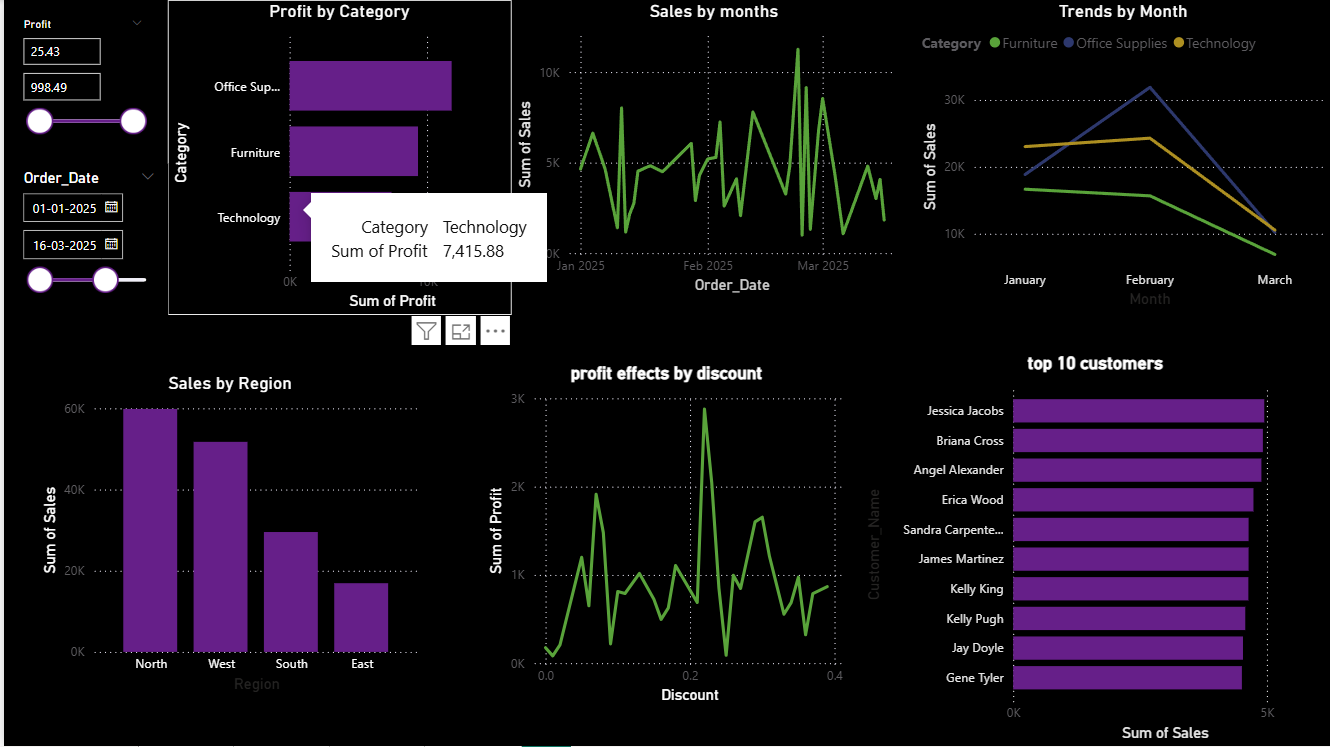

The dashboard page shown, as its layout file describes it:
{"tool":"powerbi","page":{"name":"Page 4","canvas":[1280,720],"ordinal":3},"visuals":[{"type":"lineChart","title":"Sales by months","fields":{"Y":["Sum(clean_sales_dataset.Sales)"],"Category":["clean_sales_dataset.Order_Date"]},"box":[489.8,0,390.9,288.3],"z":0},{"type":"lineChart","title":"Trends by Month","fields":{"Category":["clean_sales_dataset.Order_Date.Variation.Date Hierarchy.Month","clean_sales_dataset.Order_Date.Variation.Date Hierarchy.Day"],"Y":["Sum(clean_sales_dataset.Sales)"],"Series":["clean_sales_dataset.Category"]},"box":[880.7,0,399.3,301.6],"z":1000},{"type":"barChart","title":"top 10 customers","fields":{"Category":["clean_sales_dataset.Customer_Name"],"Y":["Sum(clean_sales_dataset.Sales)"]},"box":[826.4,340.2,453.6,380],"z":2000},{"type":"lineChart","title":"profit effects by discount","fields":{"Category":["clean_sales_dataset.Discount"],"Y":["Sum(clean_sales_dataset.Profit)"]},"box":[462.1,349.9,354.7,334.2],"z":3000},{"type":"columnChart","title":"Sales by Region","fields":{"Category":["clean_sales_dataset.Region"],"Y":["Sum(clean_sales_dataset.Sales)"]},"box":[31.4,359.5,374,313.7],"z":4000},{"type":"barChart","title":"Profit by Category","fields":{"Category":["clean_sales_dataset.Category"],"Y":["Sum(clean_sales_dataset.Profit)"]},"box":[158,0,331.8,304],"z":5000},{"type":"slicer","fields":{"Values":["clean_sales_dataset.Order_Date"]},"box":[6,158,152,182.2],"z":6000},{"type":"slicer","fields":{"Values":["clean_sales_dataset.Profit"]},"box":[6,12.1,139.9,132.7],"z":7000}]}

Visuals, with their boxes in screenshot pixels (x1, y1, x2, y2), scaled from the page's 1280x720 canvas onto the 1330x747 screenshot:
"Sales by months" lineChart: [509,0,915,299]
"Trends by Month" lineChart: [915,0,1329,313]
"top 10 customers" barChart: [859,353,1329,746]
"profit effects by discount" lineChart: [480,363,849,710]
"Sales by Region" columnChart: [33,373,421,698]
"Profit by Category" barChart: [164,0,509,315]
slicer - clean_sales_dataset.Order_Date: [6,164,164,353]
slicer - clean_sales_dataset.Profit: [6,13,152,150]
